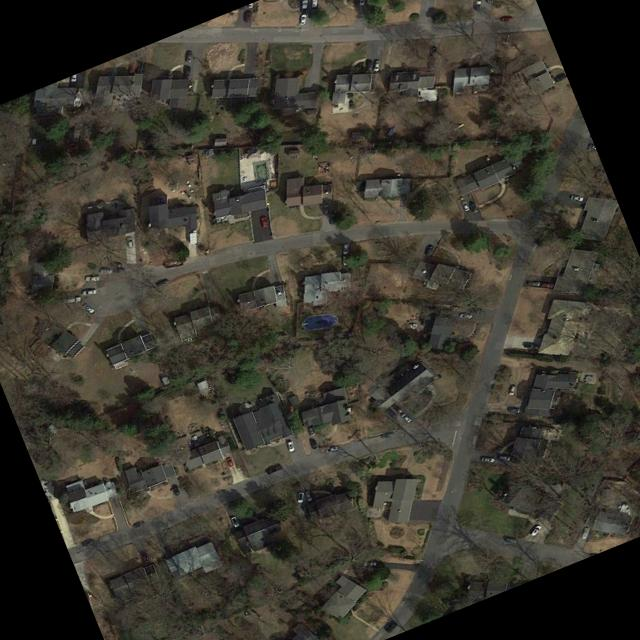large-vehicle: (300, 0, 309, 13), (475, 0, 482, 11), (486, 0, 493, 5)
ship: (73, 89, 82, 105)
small-vehicle: (266, 464, 283, 476), (139, 550, 151, 566), (386, 620, 399, 634), (155, 277, 170, 289), (81, 302, 96, 314), (529, 524, 542, 537), (170, 483, 181, 497), (61, 296, 80, 304), (81, 538, 96, 548), (400, 411, 412, 423), (385, 406, 397, 418), (468, 200, 478, 214), (581, 525, 590, 540), (569, 193, 584, 202), (391, 402, 403, 413), (133, 519, 146, 529), (460, 199, 470, 212), (381, 431, 396, 439), (286, 440, 296, 452), (230, 516, 240, 528), (425, 244, 434, 257), (309, 437, 318, 450), (505, 535, 518, 544), (522, 341, 538, 348), (225, 455, 234, 467), (260, 216, 269, 228), (363, 559, 378, 566), (325, 445, 338, 453), (244, 9, 252, 22), (126, 235, 134, 248), (296, 491, 304, 504), (481, 456, 495, 463), (183, 64, 191, 76), (308, 424, 316, 436), (373, 60, 381, 72), (539, 282, 555, 288), (112, 267, 125, 274), (500, 15, 513, 22), (82, 289, 97, 295), (508, 385, 516, 396), (304, 490, 312, 501), (507, 407, 521, 413), (469, 306, 483, 312), (365, 58, 372, 70), (86, 275, 100, 281), (527, 281, 541, 287), (109, 261, 122, 267), (186, 50, 192, 63), (99, 268, 111, 274), (343, 254, 349, 266), (431, 46, 436, 59), (498, 455, 511, 460), (460, 313, 472, 318), (300, 14, 306, 24), (323, 204, 329, 214), (311, 0, 318, 8), (342, 244, 348, 253), (359, 0, 365, 5)
